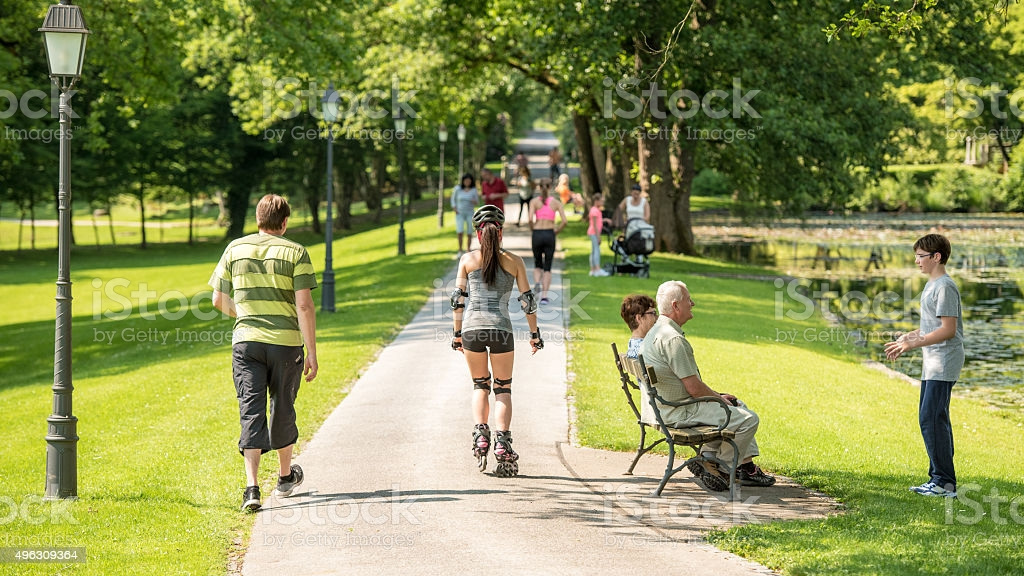person: (206, 182, 326, 518), (443, 198, 552, 486), (640, 275, 779, 491), (879, 227, 974, 509), (617, 293, 742, 494), (522, 175, 574, 312)
